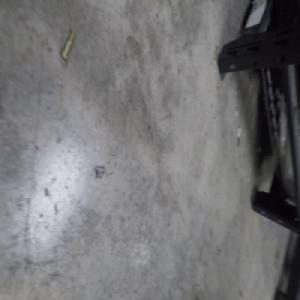Bolt: (58, 28, 75, 64)
